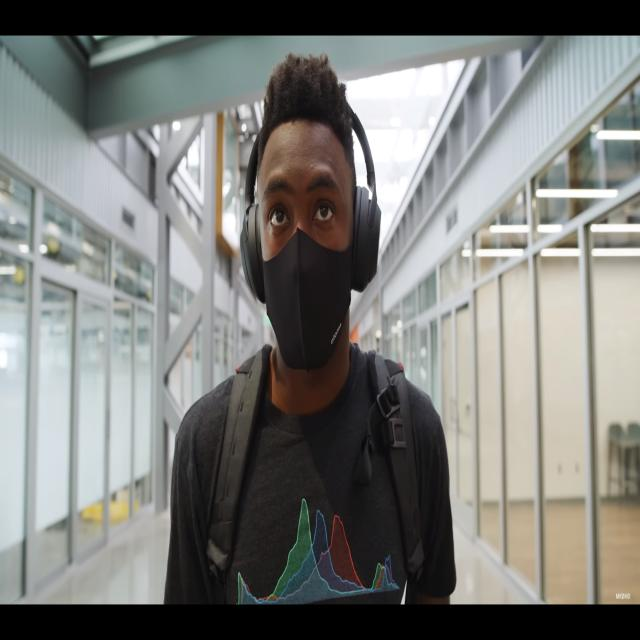Headphone: (240, 98, 380, 305)
